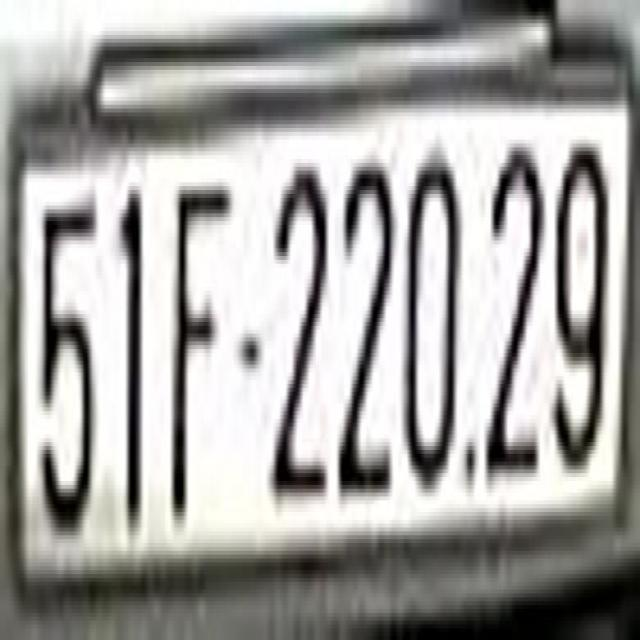0: (408, 148, 456, 500)
1: (115, 175, 146, 528)
2: (268, 151, 330, 512), (338, 159, 393, 516), (482, 140, 540, 473)
5: (40, 186, 97, 539)
9: (552, 124, 606, 489)
F: (171, 163, 232, 524)
